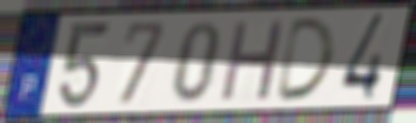0: (170, 19, 222, 104)
4: (338, 11, 387, 104)
5: (56, 20, 113, 111)
7: (121, 19, 169, 108)
D: (272, 15, 338, 105)
H: (217, 16, 289, 104)
